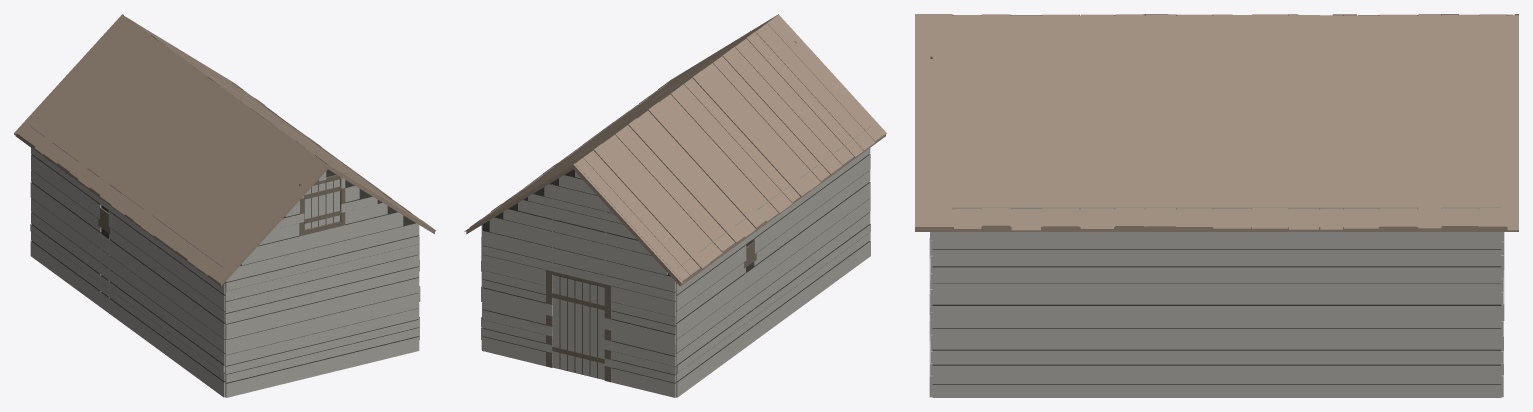
Rendered from recon_1835_north_a1_036__inferred_1835.glb.
3 renders of one model, left to right at view 1: azimuth 30°, elevation 25°; view 2: azimuth 150°, elevation 25°; view 3: azimuth 270°, elevation 25°, orthographic. The views are drawn at different scales.
Parts seen in each view (by area): view 1: recon_1835_north_a1_036__inferred_1835; view 2: recon_1835_north_a1_036__inferred_1835; view 3: recon_1835_north_a1_036__inferred_1835.
Part boxes in pixels (x1=…): recon_1835_north_a1_036__inferred_1835: x1=14, y1=14, x2=435, y2=397; recon_1835_north_a1_036__inferred_1835: x1=464, y1=14, x2=886, y2=397; recon_1835_north_a1_036__inferred_1835: x1=915, y1=14, x2=1518, y2=397.
Size of the model in its own units: 5.61 by 5.25 by 9.15.
